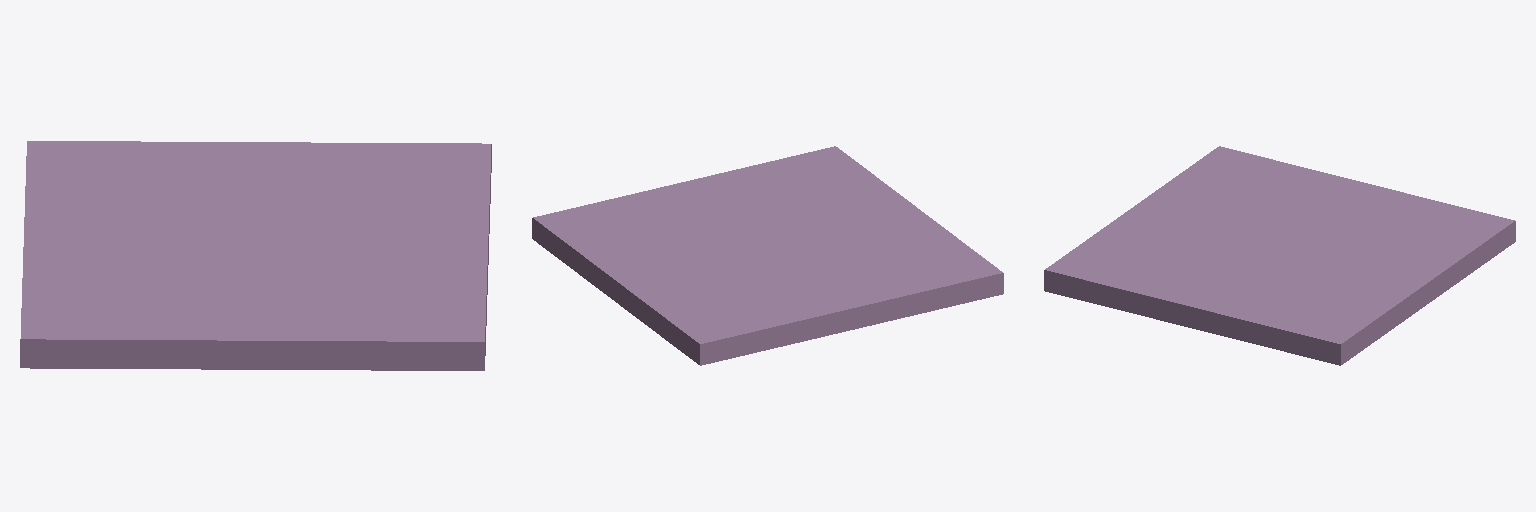
The robot description file, URDF, robot "Interference":
<?xml version="1.0"?>
<robot name="Interference">
  <link name="baseLink">
    <inertial>
      <origin xyz="0.0 0.0 0.0" rpy="0.0 0.0 0.0"/>
      <inertia ixx="0.0" ixy="0.0" ixz="0.0" iyy="0.0" iyz="0.0" izz="0.0"/>
      <mass value="0"/>
    </inertial>
    <visual>
      <origin xyz="0.0 0.0 0.0" rpy="0.0 0.0 1.0333215576225623"/>
      <geometry>
        <box size="0.14634080349597442 0.14471958835471202 0.01"/>
      </geometry>
      <material name="color">
        <color rgba="0.6811574104920233 0.5751266981445063 0.6901558703156689 1.0"/>
      </material>
    </visual>
  </link>
</robot>

--- What the picture shows (computed from the rendered views, not written in the file) ---
3 views of the same robot in one strip: view 1: azimuth 30°, elevation 25°; view 2: azimuth 150°, elevation 25°; view 3: azimuth 270°, elevation 25° (orthographic).
Robot: Interference — 1 links, 0 joints (none); root link baseLink; default pose: all joints at 0.
Links seen in each view (by area): view 1: baseLink; view 2: baseLink; view 3: baseLink.
Link boxes in pixels (left/top/right/bottom): baseLink: left=20, top=141, right=491, bottom=370; baseLink: left=532, top=146, right=1003, bottom=365; baseLink: left=1044, top=146, right=1515, bottom=365.
Bounding box of the posed robot: 0.1992 × 0.1998 × 0.01 m (x, y, z).
Geometry: primitives only (box / cylinder / sphere), no mesh files.